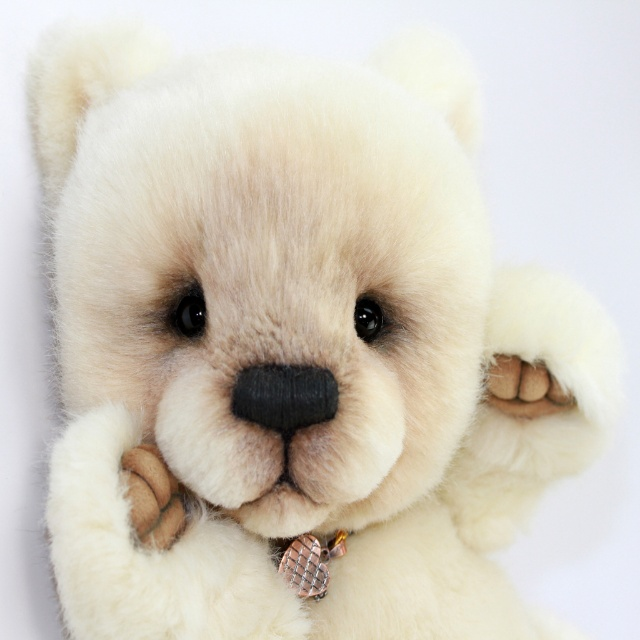Bear: (28, 15, 634, 640)
